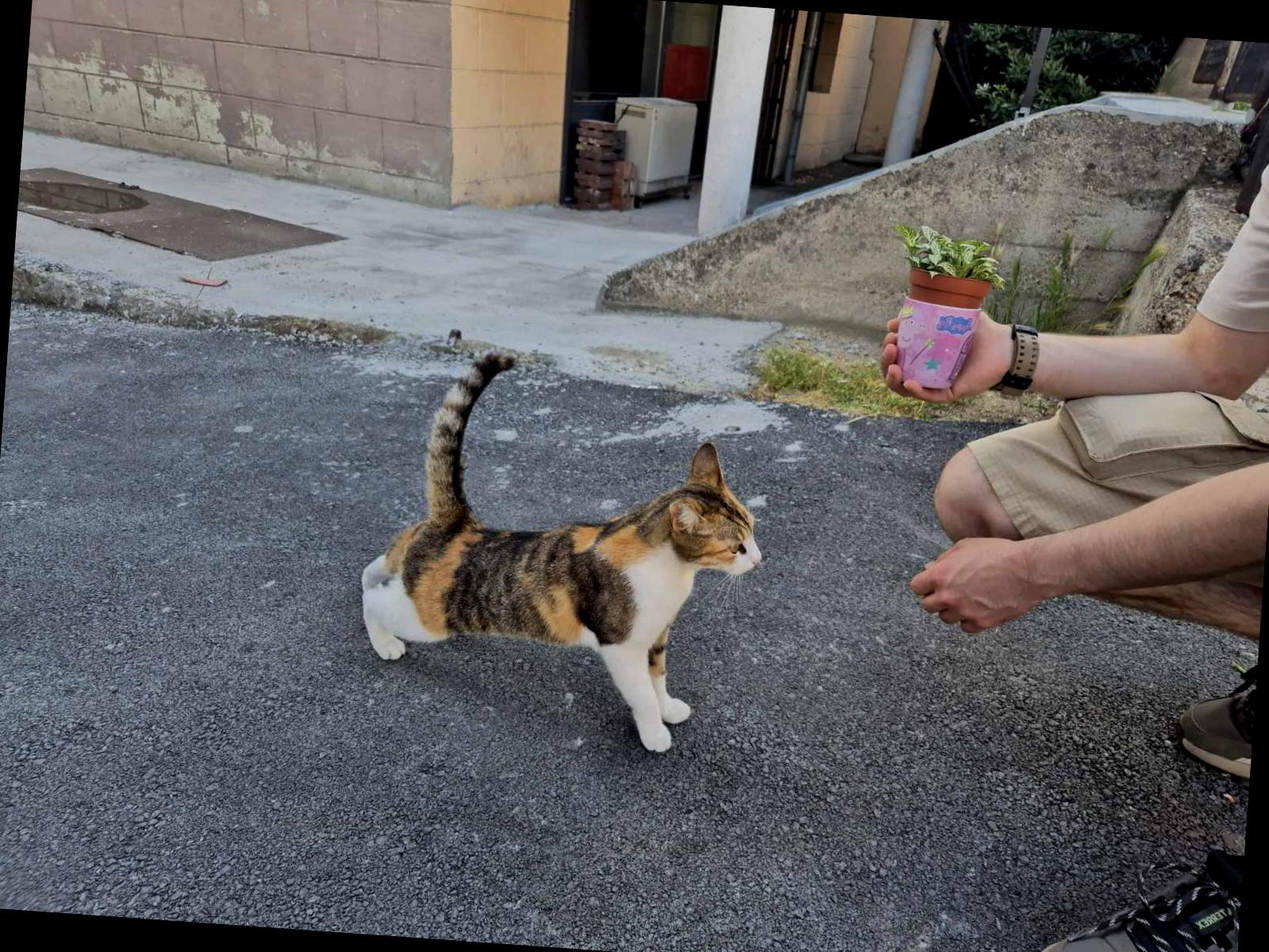macka: (352, 343, 774, 762)
